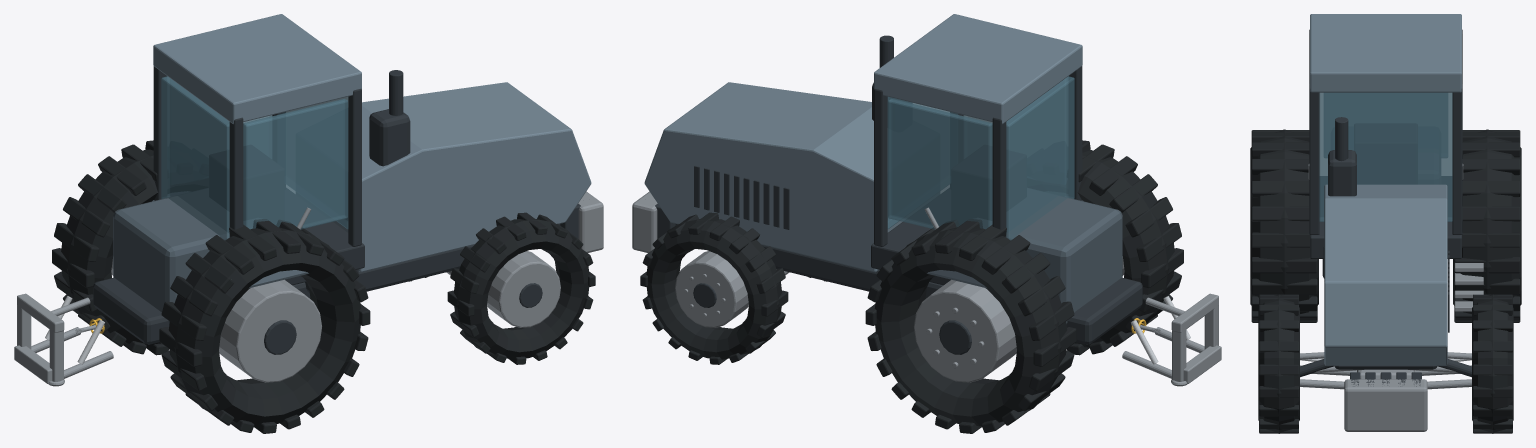
Rendered from john-deere-8r-410-structural-study.glb.
The picture shows the model from 3 angles, left to right: view 1: azimuth 30°, elevation 25°; view 2: azimuth 150°, elevation 25°; view 3: azimuth 270°, elevation 25°; orthographic projection. The views are drawn at different scales.
Parts seen in each view (by area): view 1: Engine_Hood_Profile, Rear_R_Tire, Cab_Roof, Cab_R_Glass, Rear_Transmission_Housing, Front_R_Tire, Cab_Rear_Glass, Rear_R_Rim, Main_Frame_Rail, Rear_L_Tire, Front_R_Rim, Operator_Seat (+25 smaller); view 2: Engine_Hood_Profile, Rear_L_Tire, Cab_Roof, Cab_L_Glass, Rear_Transmission_Housing, Front_L_Tire, Cab_Rear_Glass, Rear_L_Rim, Main_Frame_Rail, Rear_R_Tire, Operator_Seat, Front_L_Rim (+23 smaller); view 3: Engine_Hood_Profile, Cab_Roof, Cab_Front_Glass, Rear_R_Tire, Rear_L_Tire, Front_Ballast_Carrier, Operator_Seat, Front_L_Tire, Front_R_Tire, Cab_L_Post_F, Cab_R_Post_F, Cab_Floor (+42 smaller).
Boxes of the visible parts, x1=… form: Engine_Hood_Profile: x1=296, y1=82, x2=591, y2=272; Rear_R_Tire: x1=168, y1=227, x2=361, y2=426; Cab_Roof: x1=153, y1=14, x2=361, y2=124; Cab_R_Glass: x1=243, y1=98, x2=347, y2=229; Rear_Transmission_Housing: x1=113, y1=188, x2=260, y2=323; Front_R_Tire: x1=454, y1=219, x2=589, y2=359; Cab_Rear_Glass: x1=161, y1=76, x2=229, y2=240; Rear_R_Rim: x1=219, y1=279, x2=321, y2=382; Main_Frame_Rail: x1=93, y1=245, x2=473, y2=344; Rear_L_Tire: x1=61, y1=149, x2=208, y2=347; Front_R_Rim: x1=487, y1=251, x2=560, y2=327; Operator_Seat: x1=209, y1=145, x2=283, y2=224; Engine_Hood_Profile: x1=644, y1=82, x2=939, y2=272; Rear_L_Tire: x1=874, y1=227, x2=1067, y2=426; Cab_Roof: x1=874, y1=14, x2=1082, y2=124; Cab_L_Glass: x1=888, y1=98, x2=992, y2=229; Rear_Transmission_Housing: x1=975, y1=188, x2=1122, y2=323; Front_L_Tire: x1=646, y1=219, x2=781, y2=359; Cab_Rear_Glass: x1=1006, y1=76, x2=1074, y2=240; Rear_L_Rim: x1=914, y1=279, x2=1016, y2=382; Main_Frame_Rail: x1=762, y1=245, x2=1142, y2=344; Rear_R_Tire: x1=1027, y1=149, x2=1174, y2=347; Operator_Seat: x1=952, y1=145, x2=1026, y2=224; Front_L_Rim: x1=675, y1=251, x2=748, y2=327; Engine_Hood_Profile: x1=1324, y1=184, x2=1447, y2=365; Cab_Roof: x1=1310, y1=14, x2=1461, y2=92; Cab_Front_Glass: x1=1319, y1=92, x2=1452, y2=221; Rear_R_Tire: x1=1250, y1=129, x2=1318, y2=313; Rear_L_Tire: x1=1453, y1=129, x2=1521, y2=313; Front_Ballast_Carrier: x1=1344, y1=379, x2=1427, y2=431; Operator_Seat: x1=1354, y1=124, x2=1417, y2=183; Front_L_Tire: x1=1472, y1=294, x2=1513, y2=433; Front_R_Tire: x1=1258, y1=294, x2=1299, y2=433; Cab_L_Post_F: x1=1452, y1=84, x2=1462, y2=234; Cab_R_Post_F: x1=1309, y1=84, x2=1319, y2=234; Cab_Floor: x1=1310, y1=176, x2=1461, y2=258.
Size of the model in its own units: 6.64 by 3.57 by 3.
